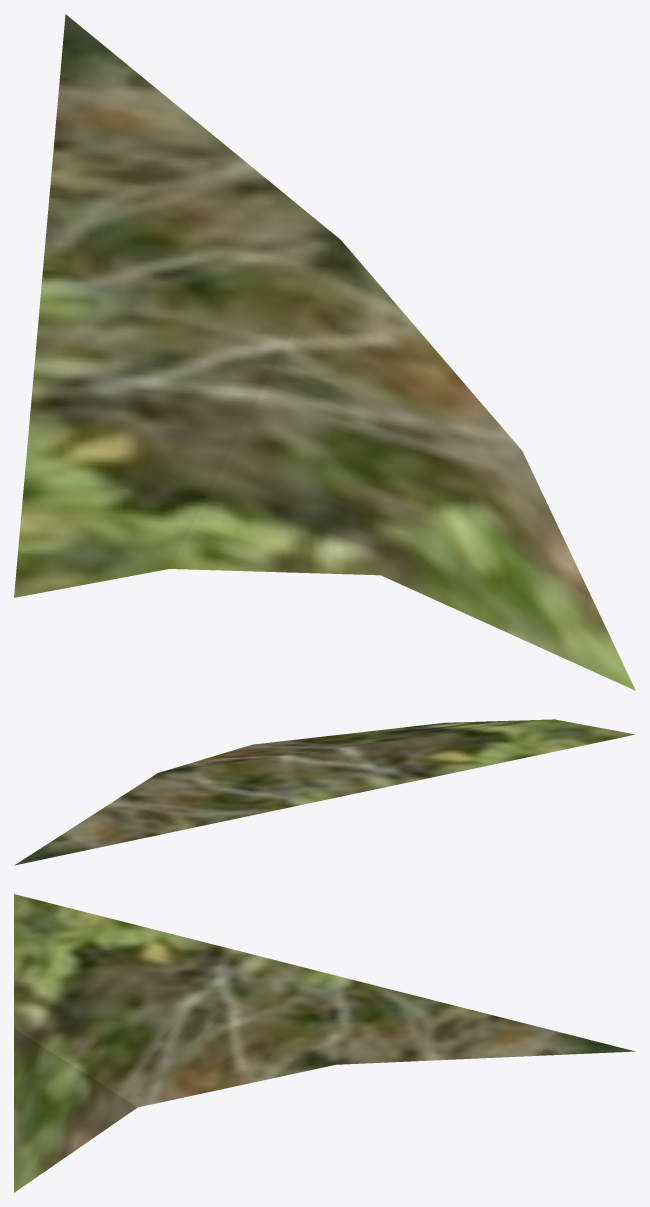
The picture shows the model from 3 angles, top to bottom: view 1: azimuth 30°, elevation 25°; view 2: azimuth 150°, elevation 25°; view 3: azimuth 270°, elevation 25°; orthographic projection. The views are drawn at different scales.
Bounding box in the file's own units: 0.8366 × 0.3334 × 1.33.
1 material, 1 textured.
